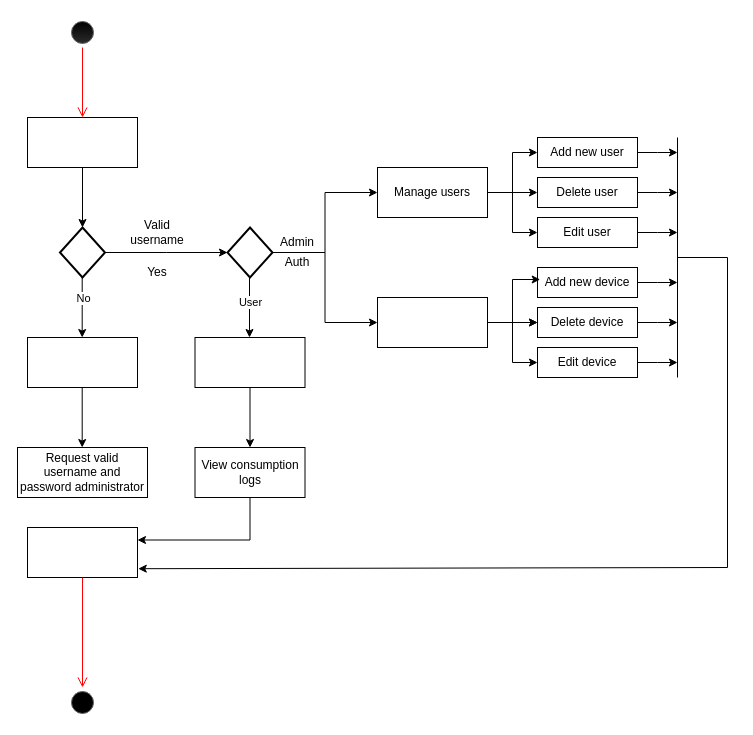
This 753x735 diagram has some shape labels left out. Here are the shapes that lost their labels. From the top down, the centre of each, then its label:
point 82,142: Sign in account
point 432,322: Manage user devices
point 82,362: Invalid username and password
point 249,362: Show dashboards
point 82,552: Logout
